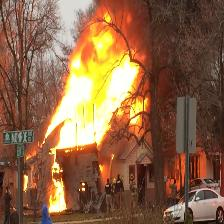fire: (52, 21, 145, 159)
